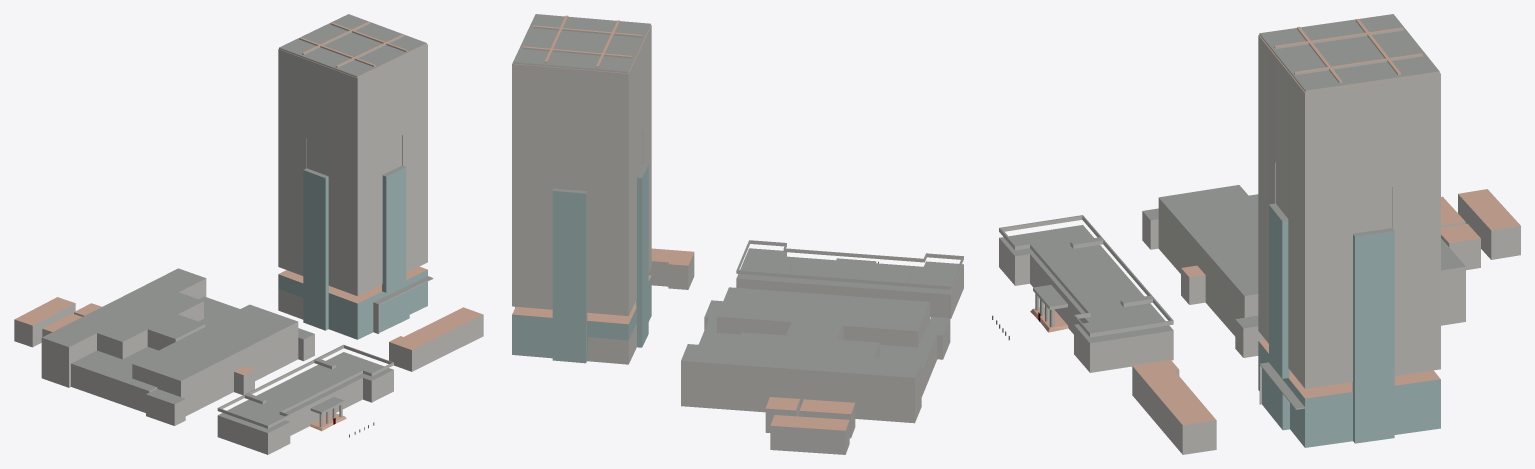
The model's file is gridID_85.dae.
3 views of the same model, side by side, from view 1: azimuth 30°, elevation 25°; view 2: azimuth 150°, elevation 25°; view 3: azimuth 270°, elevation 25° (orthographic). The views are drawn at different scales.
Visible parts, largest first — view 1: model_gridID_85_w375904202_001, model_gridID_85_w116940021_003, model_gridID_85_w113655498_002, model_gridID_85_w376043957, model_gridID_85_w116940021_001, model_gridID_85_w376043963; view 2: model_gridID_85_w375904202_001, model_gridID_85_w116940021_003, model_gridID_85_w113655498_002, model_gridID_85_w116940021_001, model_gridID_85_w116940021, model_gridID_85_w376043963, model_gridID_85_w116940021_002, model_gridID_85_w376043957; view 3: model_gridID_85_w375904202_001, model_gridID_85_w113655498_002, model_gridID_85_w116940021_003, model_gridID_85_w376043957, model_gridID_85_w116940021_001, model_gridID_85_w116940021_002, model_gridID_85_w376043963.
Part boxes in pixels (x1,y1,x2,y2): model_gridID_85_w375904202_001: [278, 14, 433, 339]; model_gridID_85_w116940021_003: [41, 268, 314, 425]; model_gridID_85_w113655498_002: [217, 344, 393, 454]; model_gridID_85_w376043957: [404, 307, 483, 365]; model_gridID_85_w116940021_001: [14, 297, 75, 347]; model_gridID_85_w376043963: [389, 336, 423, 371]; model_gridID_85_w375904202_001: [512, 14, 651, 364]; model_gridID_85_w116940021_003: [681, 287, 950, 423]; model_gridID_85_w113655498_002: [736, 240, 963, 318]; model_gridID_85_w116940021_001: [770, 415, 849, 454]; model_gridID_85_w116940021: [799, 399, 855, 438]; model_gridID_85_w376043963: [668, 250, 694, 289]; model_gridID_85_w116940021_002: [765, 397, 800, 432]; model_gridID_85_w376043957: [648, 248, 673, 286]; model_gridID_85_w375904202_001: [1258, 14, 1440, 447]; model_gridID_85_w113655498_002: [999, 215, 1173, 372]; model_gridID_85_w116940021_003: [1142, 185, 1465, 357]; model_gridID_85_w376043957: [1140, 370, 1216, 454]; model_gridID_85_w116940021_001: [1458, 189, 1520, 259]; model_gridID_85_w116940021_002: [1441, 223, 1480, 270]; model_gridID_85_w376043963: [1132, 360, 1179, 404].
Bounding box in the file's own units: 135 × 122 × 91.25.
